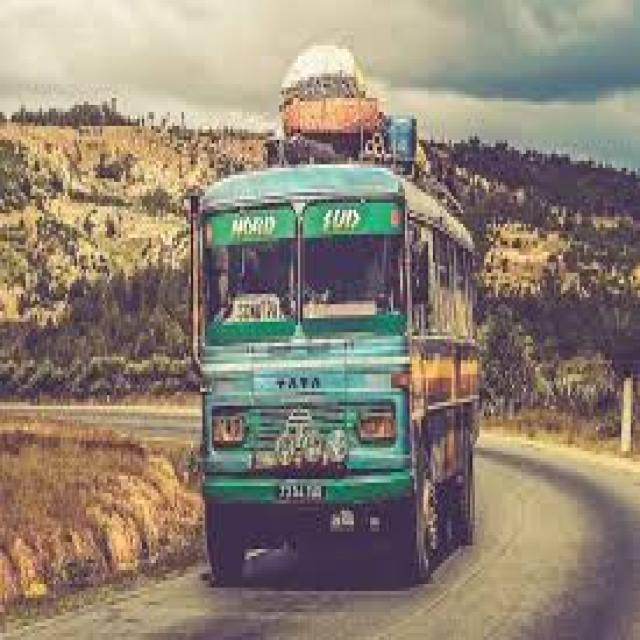BUS: (179, 60, 561, 514)
